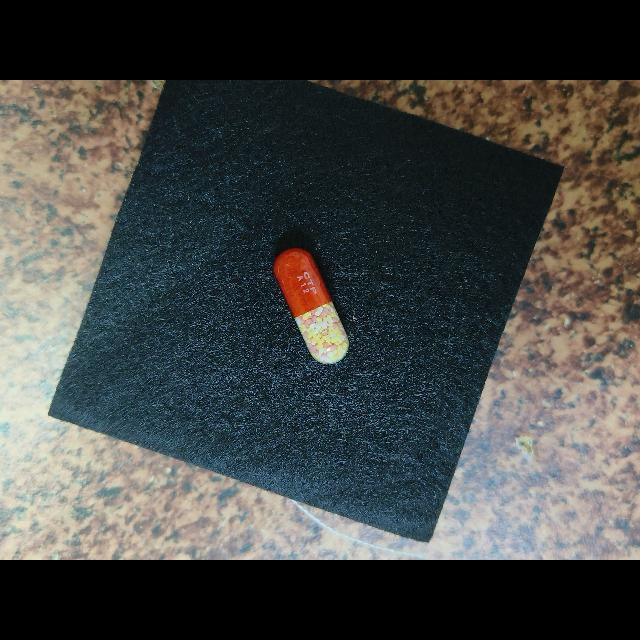Intact Capsule: (273, 248, 349, 364)
